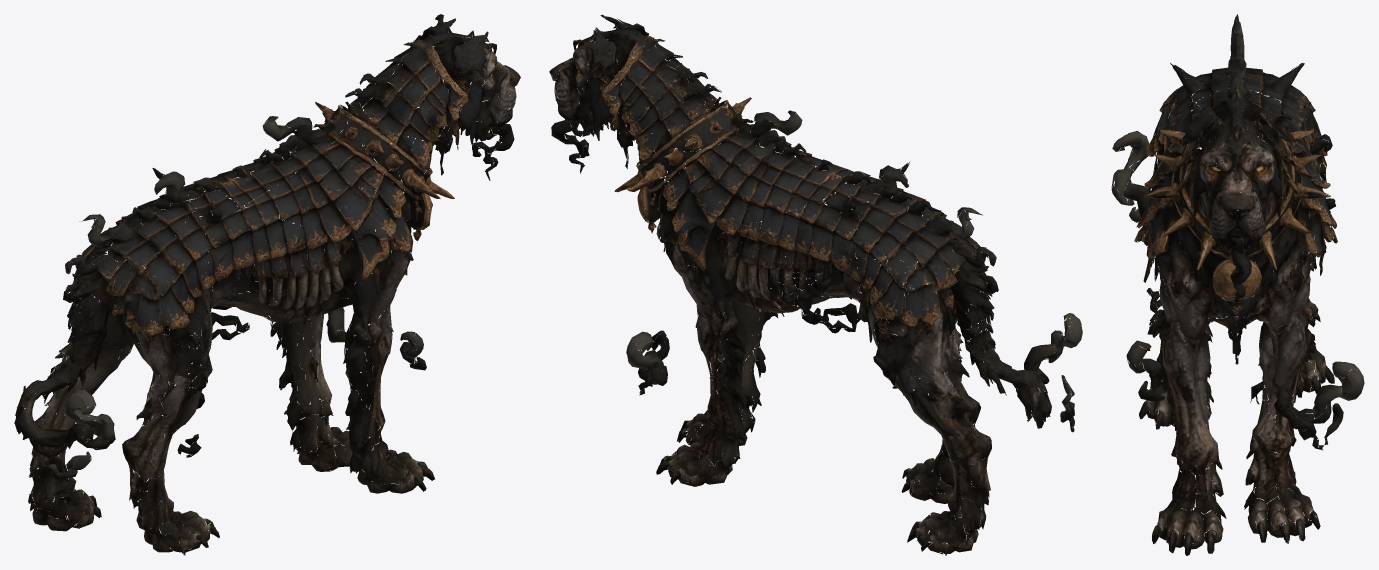
File: KhanHound-tripo.glb
3 renders of one model, left to right at view 1: azimuth 30°, elevation 25°; view 2: azimuth 150°, elevation 25°; view 3: azimuth 270°, elevation 25°, orthographic. The views are drawn at different scales.
Visible parts, largest first — view 1: tripo_node_ea19038e-acfb-46de-9494-debae701a7d2; view 2: tripo_node_ea19038e-acfb-46de-9494-debae701a7d2; view 3: tripo_node_ea19038e-acfb-46de-9494-debae701a7d2.
Boxes of the visible parts, x1,y1,x2,y2 form: tripo_node_ea19038e-acfb-46de-9494-debae701a7d2: [14, 14, 520, 555]; tripo_node_ea19038e-acfb-46de-9494-debae701a7d2: [549, 14, 1082, 555]; tripo_node_ea19038e-acfb-46de-9494-debae701a7d2: [1111, 14, 1364, 555].
Bounding box in the file's own units: 1 × 0.8025 × 0.3837.
1 material, 1 textured.
